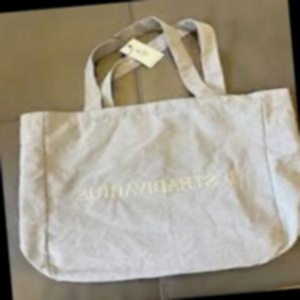stradivarius: (210, 83, 281, 249)
